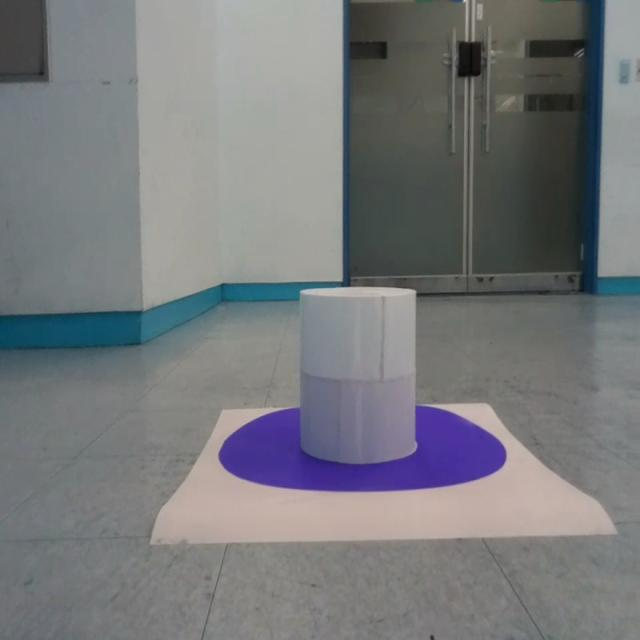cylinder: (300, 286, 417, 465)
